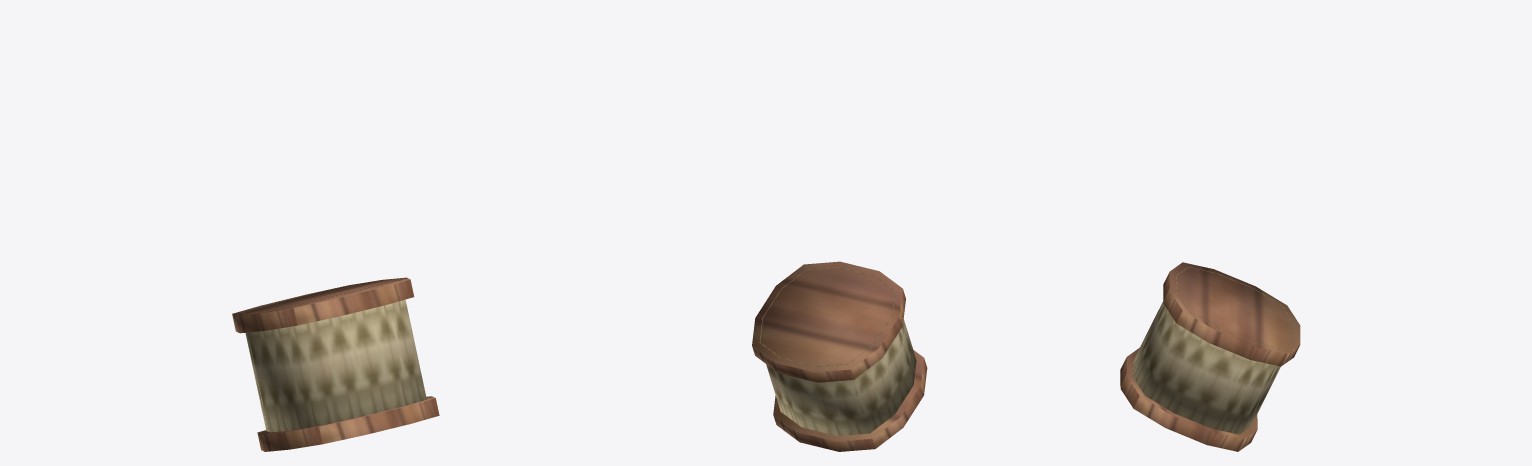
Rendered from helmet_ari_3.dae.
The picture shows the model from 3 angles, left to right: view 1: azimuth 30°, elevation 25°; view 2: azimuth 150°, elevation 25°; view 3: azimuth 270°, elevation 25°; orthographic projection. The views are drawn at different scales.
Parts seen in each view (by area): view 1: helmet_ari_3; view 2: helmet_ari_3; view 3: helmet_ari_3.
Part boxes in pixels (<box>): helmet_ari_3: <box>232,277,439,451</box>; helmet_ari_3: <box>752,261,927,451</box>; helmet_ari_3: <box>1120,262,1300,451</box>.
Size of the model in its own units: 1.68 by 1.79 by 1.53.
